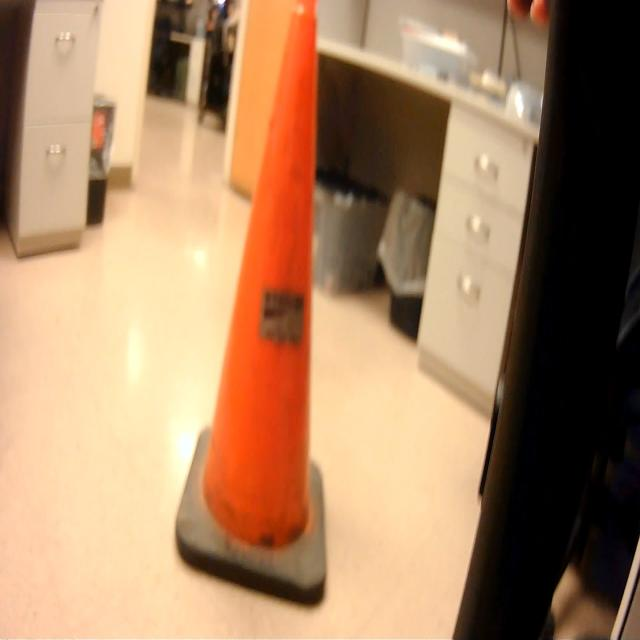traffic cone: (171, 2, 336, 615)
